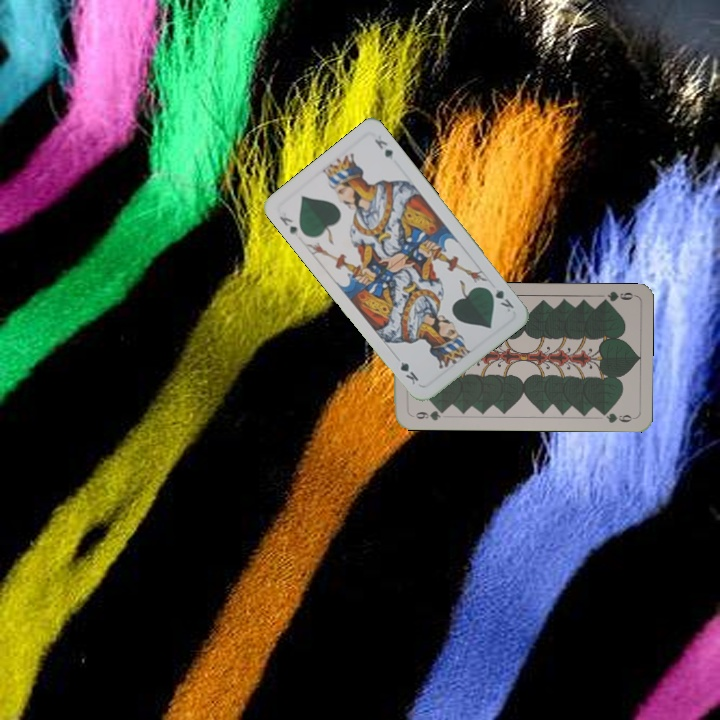G9: (596, 287, 637, 306), (407, 406, 448, 423)
GK: (483, 284, 517, 315), (275, 212, 300, 238)
